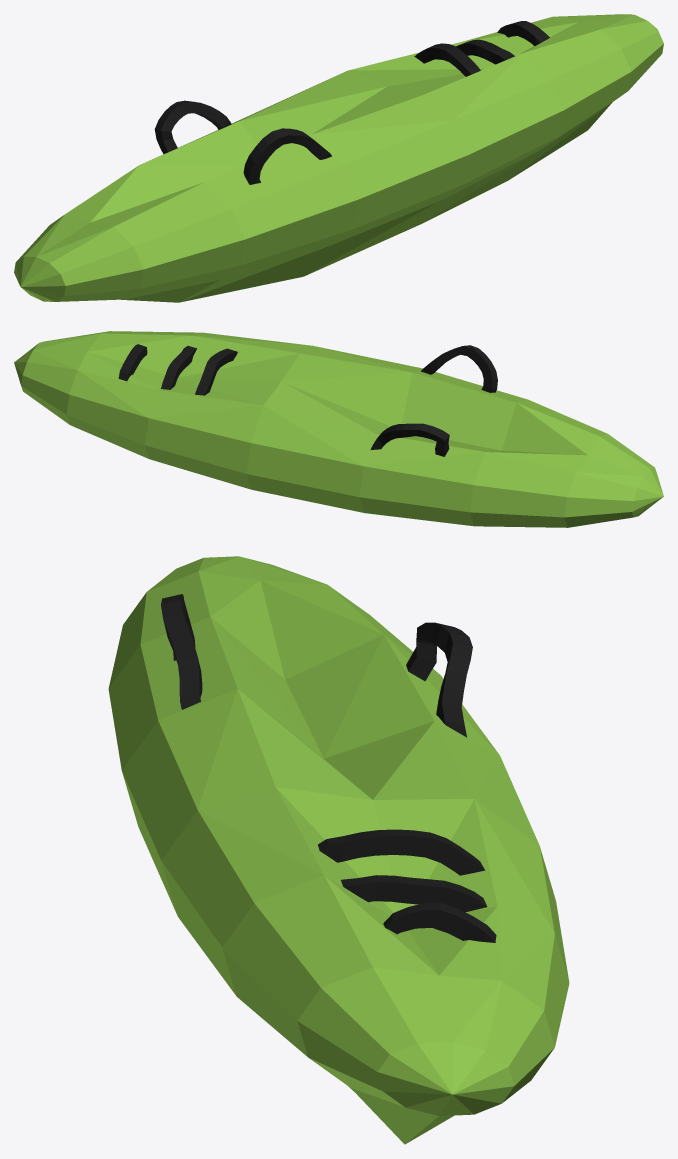
The model's file is Kayak.fbx.
3 views of the same model, one above another, from view 1: azimuth 30°, elevation 25°; view 2: azimuth 150°, elevation 25°; view 3: azimuth 270°, elevation 25° (orthographic). The views are drawn at different scales.
Visible parts, largest first — view 1: mesh_276131363, group_581106038, group_1601269279, group_1995890852, group_328605648, group_484009634; view 2: mesh_276131363, group_1601269279, group_581106038, group_1995890852, group_328605648, group_484009634; view 3: mesh_276131363, group_1995890852, group_1601269279, group_328605648, group_581106038, group_484009634.
Part boxes in pixels (x1,y1,x2,y2): mesh_276131363: (14, 14, 663, 302); group_581106038: (243, 128, 331, 184); group_1601269279: (154, 100, 231, 154); group_1995890852: (414, 43, 480, 76); group_328605648: (456, 39, 514, 64); group_484009634: (497, 21, 549, 45); mesh_276131363: (14, 331, 663, 527); group_1601269279: (370, 423, 449, 456); group_581106038: (421, 345, 497, 392); group_1995890852: (195, 348, 237, 395); group_328605648: (161, 346, 196, 389); group_484009634: (118, 344, 147, 381); mesh_276131363: (108, 556, 569, 1144); group_1995890852: (318, 829, 485, 875); group_1601269279: (406, 622, 472, 737); group_328605648: (341, 875, 487, 912); group_581106038: (161, 594, 202, 709); group_484009634: (383, 903, 496, 942).
Bounding box in the file's own units: 46.69 × 11.43 × 15.71.
